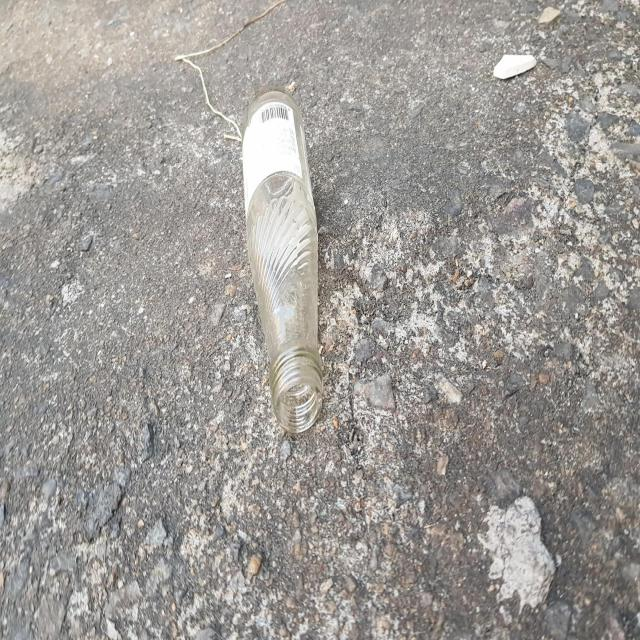glass: (242, 88, 323, 432)
